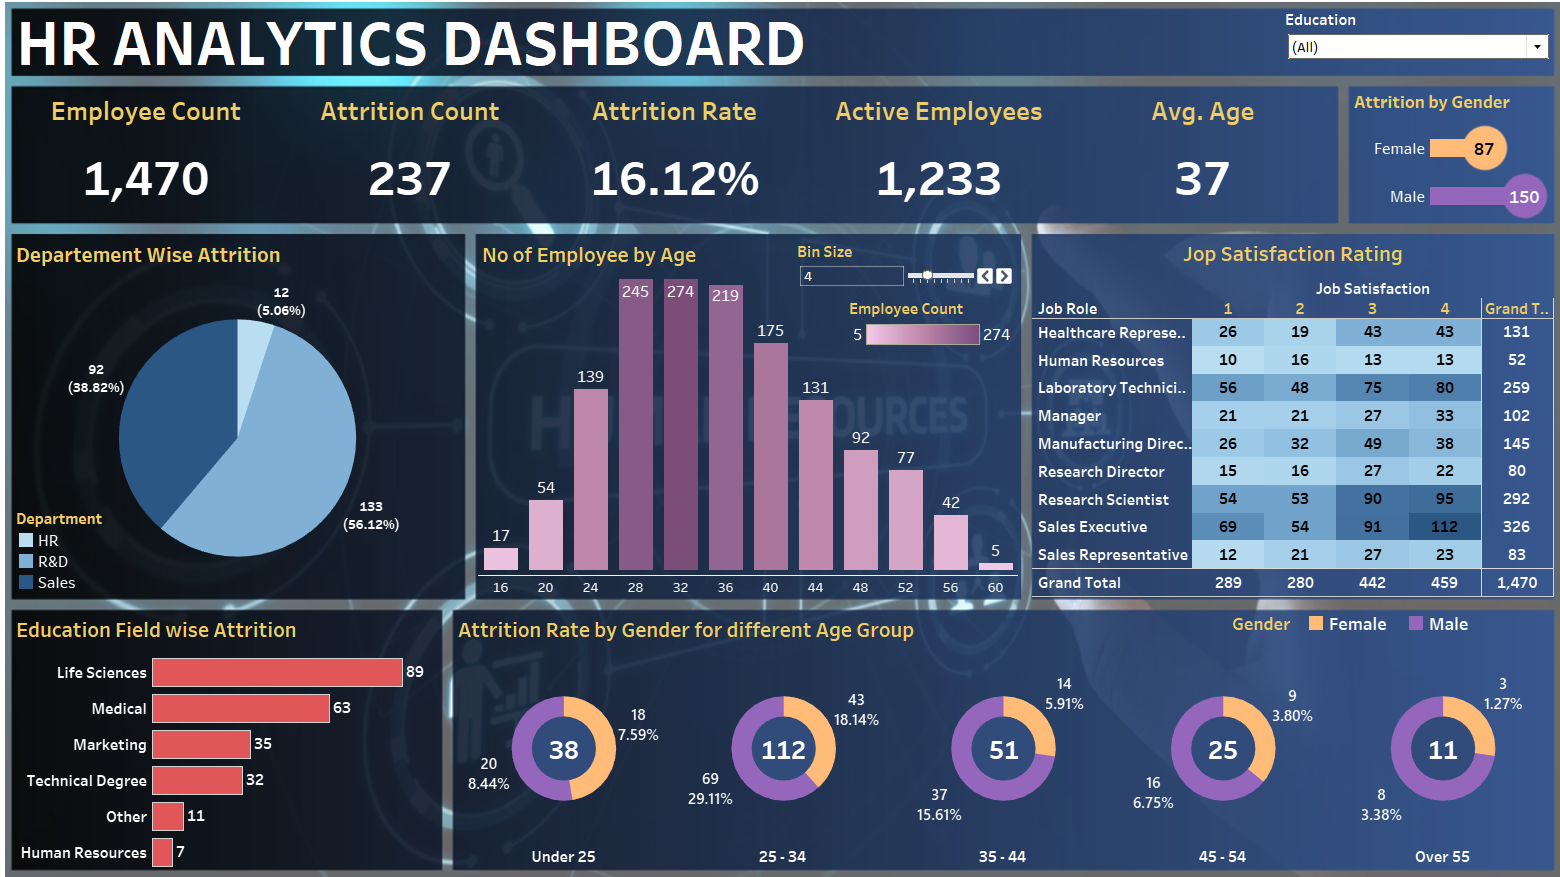

Layout of this report page (visuals, bound fields, positions):
{"tool":"tableau","page":{"name":"Dashboard 1","canvas":[1580,900],"ordinal":0},"visuals":[{"type":"image","param":"C:/Users/hicom/Downloads/HR background.pptx.png","box":[8,8,1564,884]},{"type":"filter","title":"No of Employee by Age","param":"[federated.1i7dmjn1ej0e5v1c67k2a0bkw0gv].[none:Education:nk]","box":[1292,19,267,63]},{"type":"text","box":[20,21,832,58]},{"type":"worksheet","title":"Attrition by Gender","mark":"Automatic","rows":["Gender"],"cols":["Calculation_1765411071949262848","Calculation_1765411071949262848"],"box":[1357,96,202,134]},{"type":"worksheet","title":"KPI","mark":"Automatic","box":[21,98,1321,132]},{"type":"worksheet","title":"Jop Satisfaction Rating","mark":"Square","rows":["Job Role"],"cols":["Job Satisfaction"],"box":[1039,245,522,362]},{"type":"worksheet","title":"Departement Wise Attrition","mark":"Pie","box":[19,246,451,362]},{"type":"worksheet","title":"No of Employee by Age","mark":"Automatic","rows":["Employee Count"],"cols":["Age (bin)"],"box":[485,246,540,361]},{"type":"parameter","param":"[Parameters].[Parameter 1]","box":[804,251,218,56]},{"type":"legend","title":"No of Employee by Age","param":"[federated.1i7dmjn1ej0e5v1c67k2a0bkw0gv].[sum:Employee Count:qk]","box":[856,308,166,55]},{"type":"legend","title":"Departement Wise Attrition","param":"[federated.1i7dmjn1ej0e5v1c67k2a0bkw0gv].[none:Department:nk]","box":[23,518,111,85]},{"type":"worksheet","title":"Education Field wise Attrition","mark":"Automatic","rows":["Education Field"],"cols":["Calculation_1765411071949262848"],"box":[19,621,429,259]},{"type":"worksheet","title":"Attrition Rate by Gender for different Age Group","mark":"Pie","rows":["Calculation_1765411073049276421","Calculation_1765411073049276421"],"cols":["CF_age band"],"box":[461,621,1099,257]},{"type":"legend","title":"Attrition Rate by Gender for different Age Group","param":"[federated.1i7dmjn1ej0e5v1c67k2a0bkw0gv].[none:Gender:nk]","box":[1239,621,323,39]}]}

Visuals, with their boxes in screenshot pixels (x1, y1, x2, y2), scaled from the page's 1580x900 canvas onto the 1560x877 screenshot:
image: region(8, 8, 1552, 869)
"No of Employee by Age" filter: region(1276, 19, 1539, 80)
text: region(20, 20, 841, 77)
"Attrition by Gender" worksheet: region(1340, 94, 1539, 224)
"KPI" worksheet: region(21, 95, 1325, 224)
"Jop Satisfaction Rating" worksheet (Square marks): region(1026, 239, 1541, 591)
"Departement Wise Attrition" worksheet (Pie marks): region(19, 240, 464, 592)
"No of Employee by Age" worksheet: region(479, 240, 1012, 591)
parameter: region(794, 245, 1009, 299)
"No of Employee by Age" legend: region(845, 300, 1009, 354)
"Departement Wise Attrition" legend: region(23, 505, 132, 588)
"Education Field wise Attrition" worksheet: region(19, 605, 442, 858)
"Attrition Rate by Gender for different Age Group" worksheet (Pie marks): region(455, 605, 1540, 856)
"Attrition Rate by Gender for different Age Group" legend: region(1223, 605, 1542, 643)
